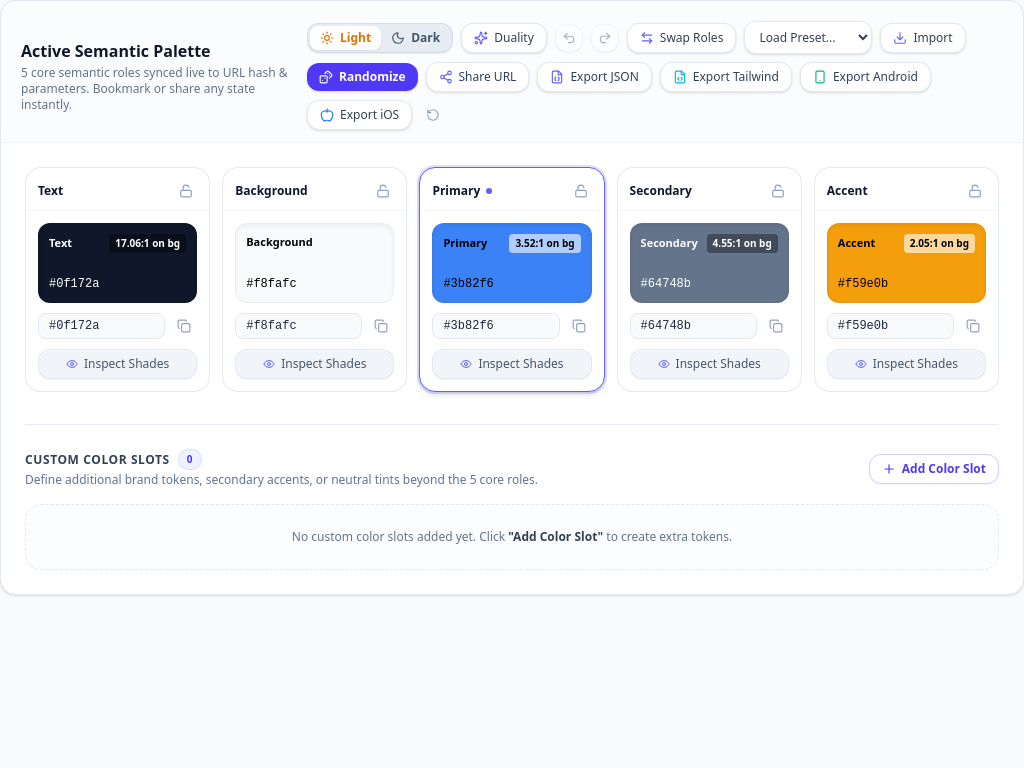
PaletteBar (TT-008) › switches between Light and Dark mode using mode switcher in toolbar
Check: the button with aria-label "Switch to Light mode palette" is shown, box [310,26,381,50]
# Click Dark mode
Click the button with aria-label "Switch to Dark mode palette". click: (416, 38)
box: [381,26,450,50]
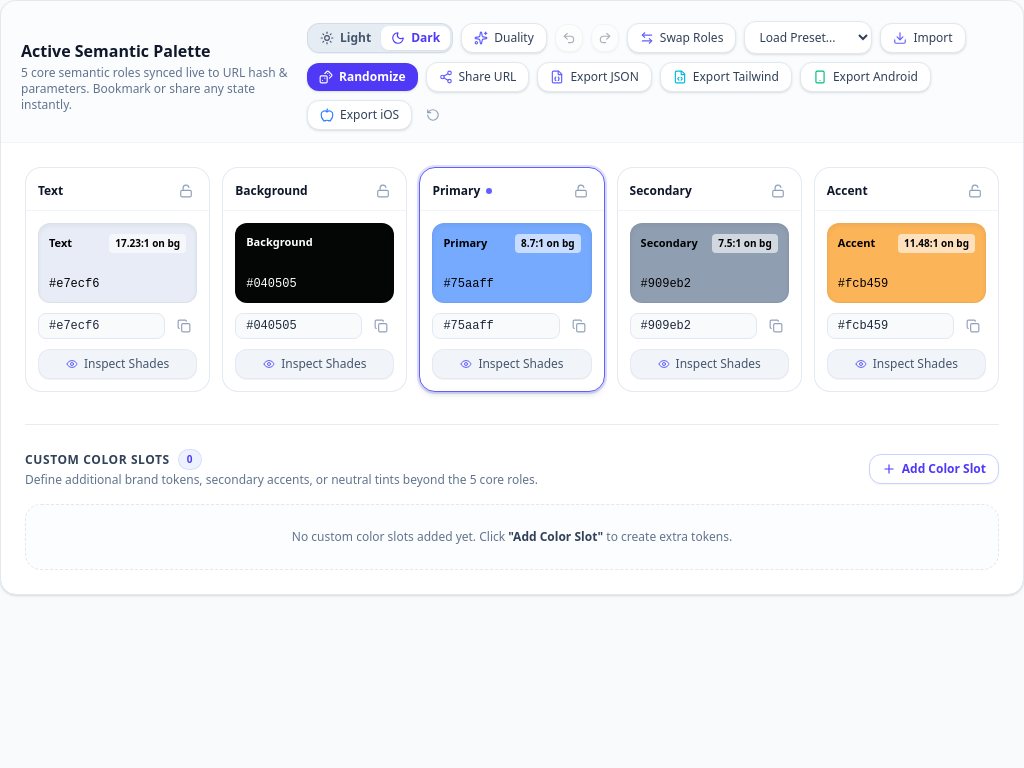
Check: the field named "Background hex code" does not hold "#f8fafc", box [235,313,362,339]
# Click Light mode
Click the button with aria-label "Switch to Light mode palette". click: (346, 38)
box: [310,26,381,50]
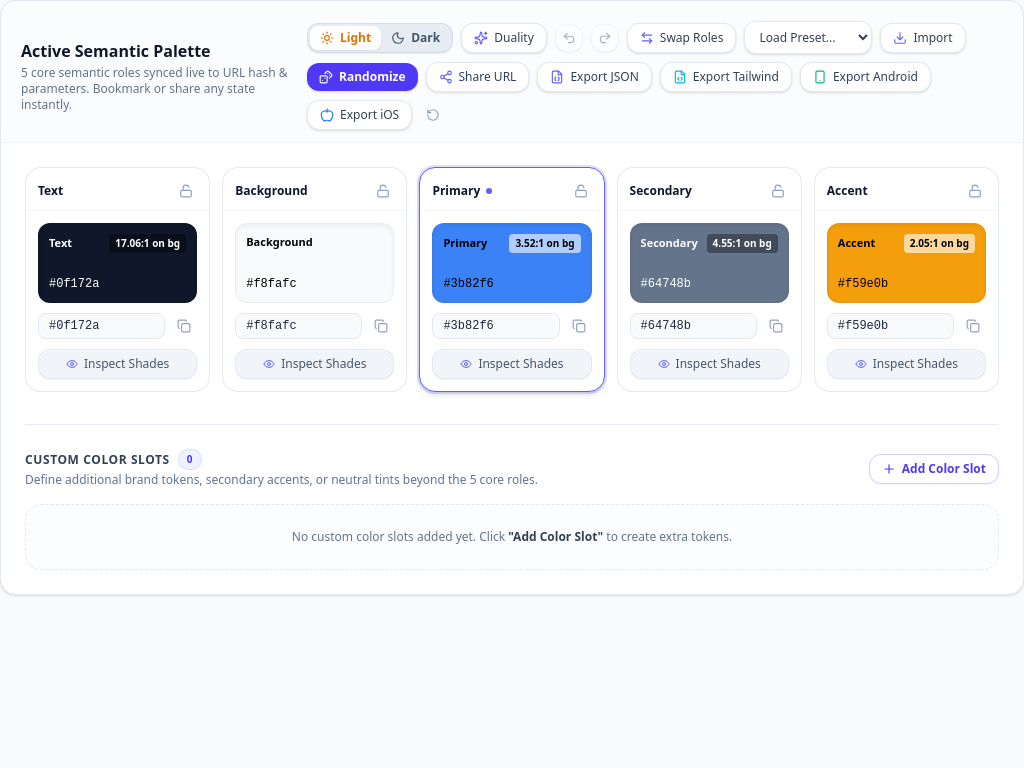
Check: the field named "Background hex code" holds "#f8fafc", box [235,313,362,339]
